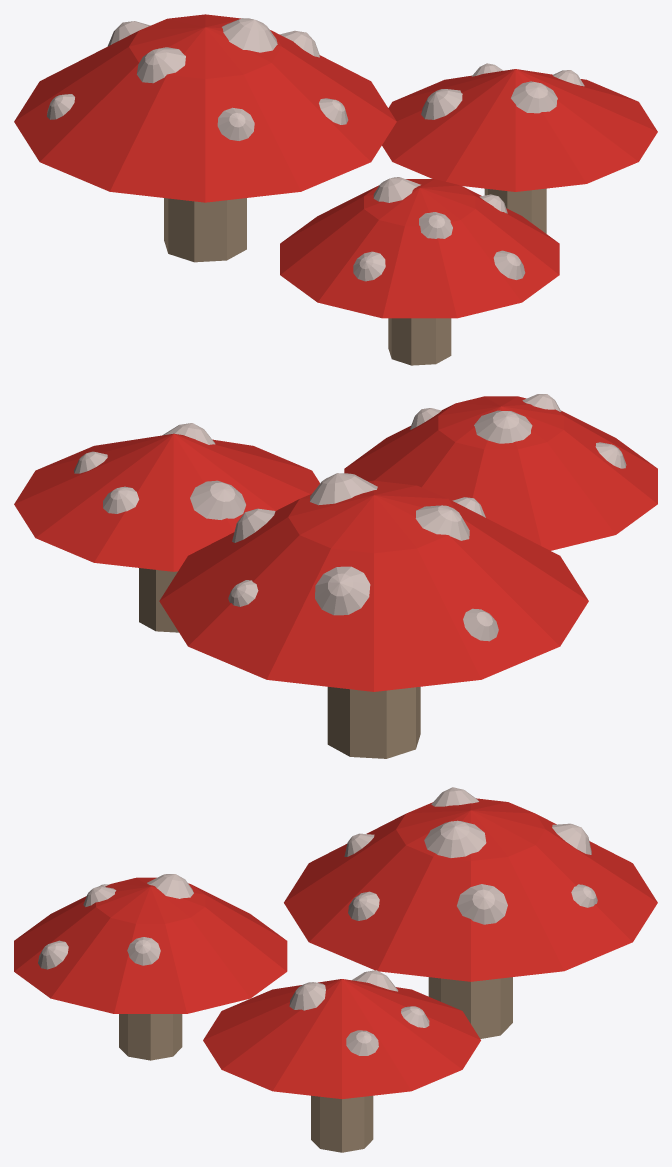
Rendered from SM_Mushrooms_1.fbx.
The picture shows the model from 3 angles, top to bottom: view 1: azimuth 30°, elevation 25°; view 2: azimuth 150°, elevation 25°; view 3: azimuth 270°, elevation 25°; orthographic projection. The views are drawn at different scales.
Parts seen in each view (by area): view 1: SM_Mushrooms_1_LOD0; view 2: SM_Mushrooms_1_LOD0; view 3: SM_Mushrooms_1_LOD0.
Part boxes in pixels (x1,y1,x2,y2): SM_Mushrooms_1_LOD0: (14, 14, 657, 365); SM_Mushrooms_1_LOD0: (14, 394, 657, 758); SM_Mushrooms_1_LOD0: (14, 787, 657, 1152).
Bounding box in the file's own units: 57.32 × 61.31 × 22.7.
1 material, 1 textured.
